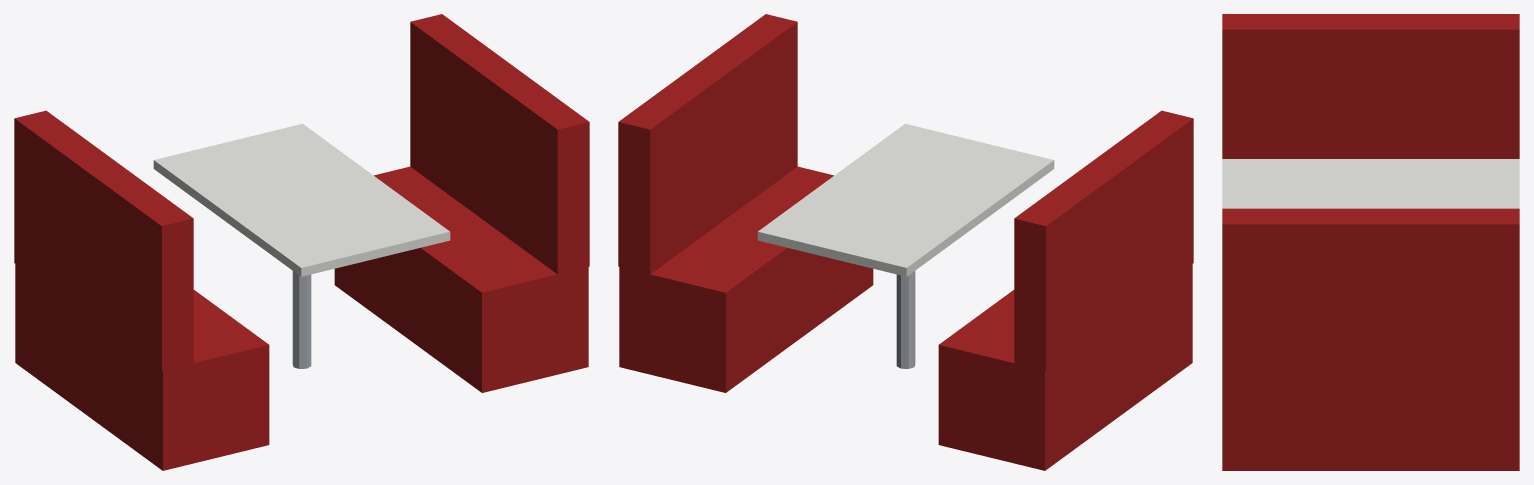
File: booth.glb
3 views of the same model, side by side, from view 1: azimuth 30°, elevation 25°; view 2: azimuth 150°, elevation 25°; view 3: azimuth 270°, elevation 25° (orthographic).
Visible parts, largest first — view 1: booth; view 2: booth; view 3: booth.
Boxes of the visible parts, x1=… form: booth: x1=14, y1=14, x2=589, y2=470; booth: x1=618, y1=14, x2=1193, y2=470; booth: x1=1222, y1=14, x2=1519, y2=470.
Size of the model in its own units: 2.01 by 1.1 by 1.2.
